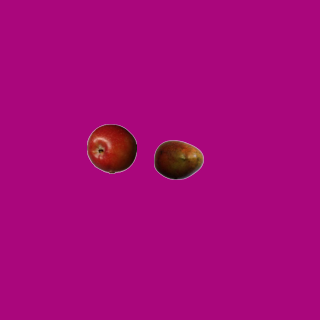Apple Braeburn: (86, 123, 136, 173)
Mango Red: (153, 134, 203, 184)
